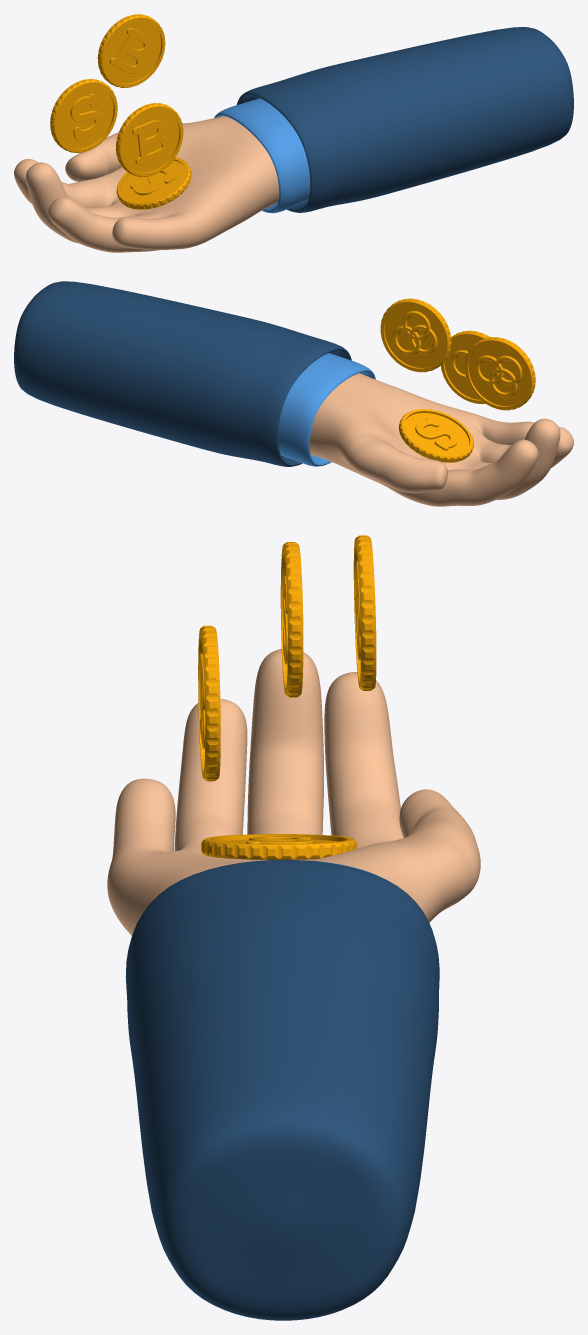
3 renders of one model, top to bottom at view 1: azimuth 30°, elevation 25°; view 2: azimuth 150°, elevation 25°; view 3: azimuth 270°, elevation 25°, orthographic. The views are drawn at different scales.
Parts seen in each view (by area): view 1: sleeve_2.001_4, hand.001_2, sleeve.001_3, coin_S.002_5, coin_B.004_7, coin_B.005_8, coin_S.001_6; view 2: sleeve_2.001_4, hand.001_2, sleeve.001_3, coin_B.005_8, coin_S.002_5, coin_S.001_6, coin_B.004_7; view 3: sleeve_2.001_4, hand.001_2, coin_S.001_6, coin_S.002_5, coin_B.004_7, coin_B.005_8.
Part boxes in pixels (box(x1,y1,x2,y2)): sleeve_2.001_4: box(236, 27, 573, 212); hand.001_2: box(14, 116, 278, 252); sleeve.001_3: box(214, 98, 310, 213); coin_S.002_5: box(50, 79, 117, 152); coin_B.004_7: box(116, 103, 183, 176); coin_B.005_8: box(97, 14, 165, 87); coin_S.001_6: box(116, 157, 191, 209); sleeve_2.001_4: box(14, 281, 351, 466); hand.001_2: box(309, 373, 573, 506); sleeve.001_3: box(278, 353, 375, 466); coin_B.005_8: box(380, 298, 451, 372); coin_S.002_5: box(464, 337, 535, 410); coin_S.001_6: box(399, 409, 473, 462); coin_B.004_7: box(440, 330, 489, 404); sleeve_2.001_4: box(125, 859, 439, 1320); hand.001_2: box(107, 649, 480, 935); coin_S.001_6: box(201, 834, 356, 859); coin_S.002_5: box(280, 542, 303, 697); coin_B.004_7: box(198, 625, 220, 781); coin_B.005_8: box(353, 535, 376, 690).
Size of the model in its own units: 1.41 by 0.5385 by 0.4356.
